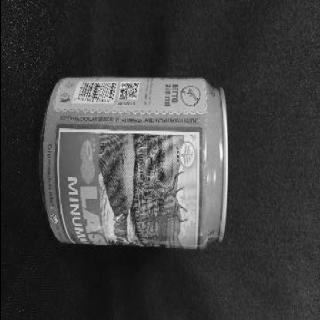alumunium_can: (39, 77, 228, 250)
